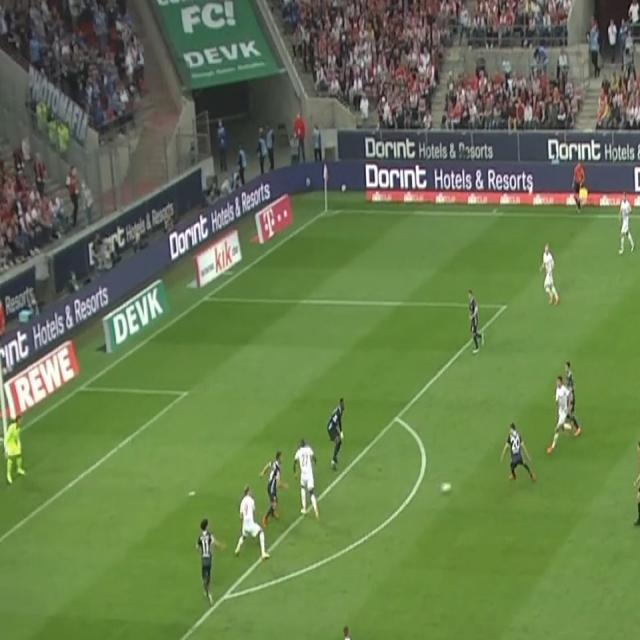ball: (438, 479, 452, 497)
